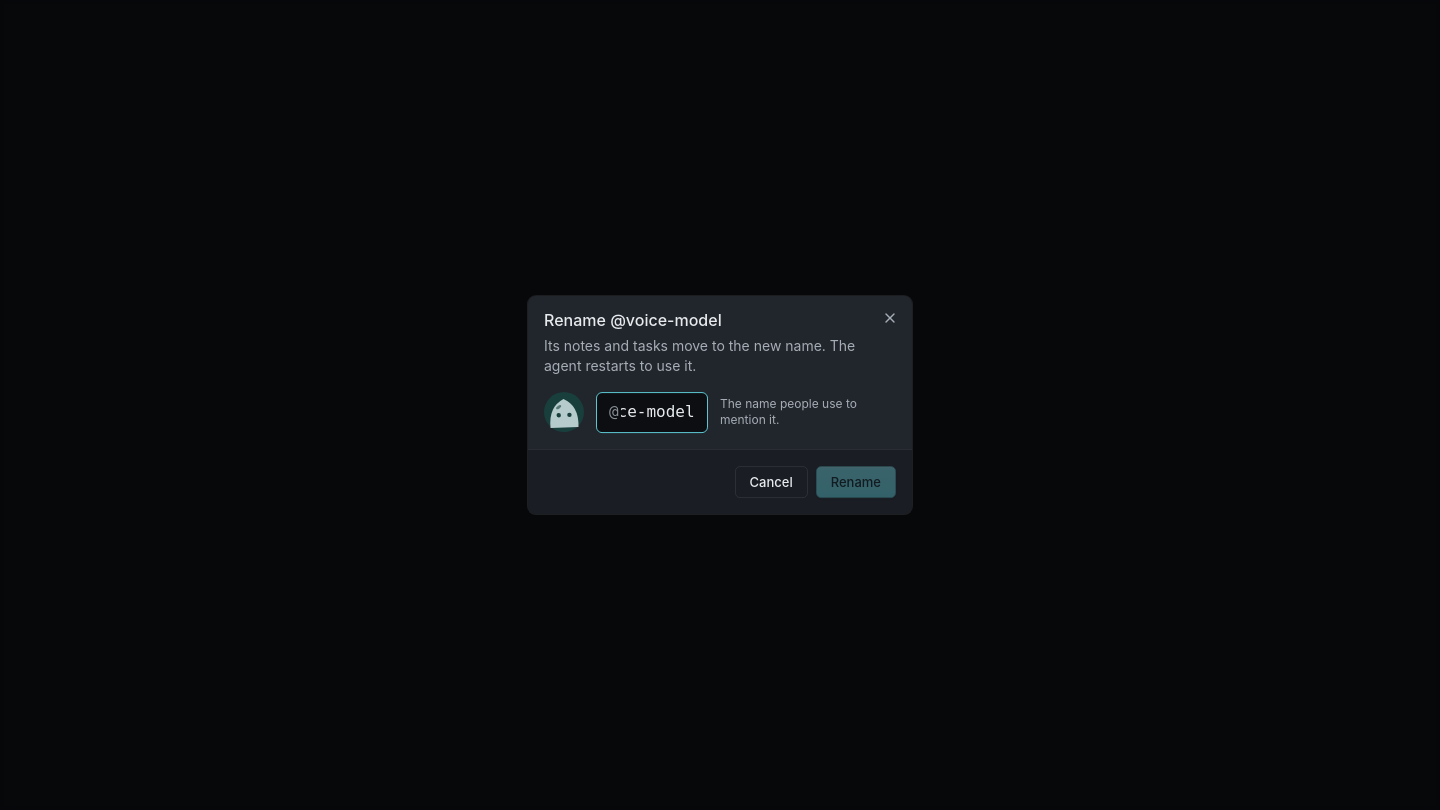
<RenameAgentDialog /> › says not renamed when the machine said no
The image size is (1440, 810).
Replace the text in the field named "handle" with "docs-writer" at (657, 412), box [619,393,695,432]
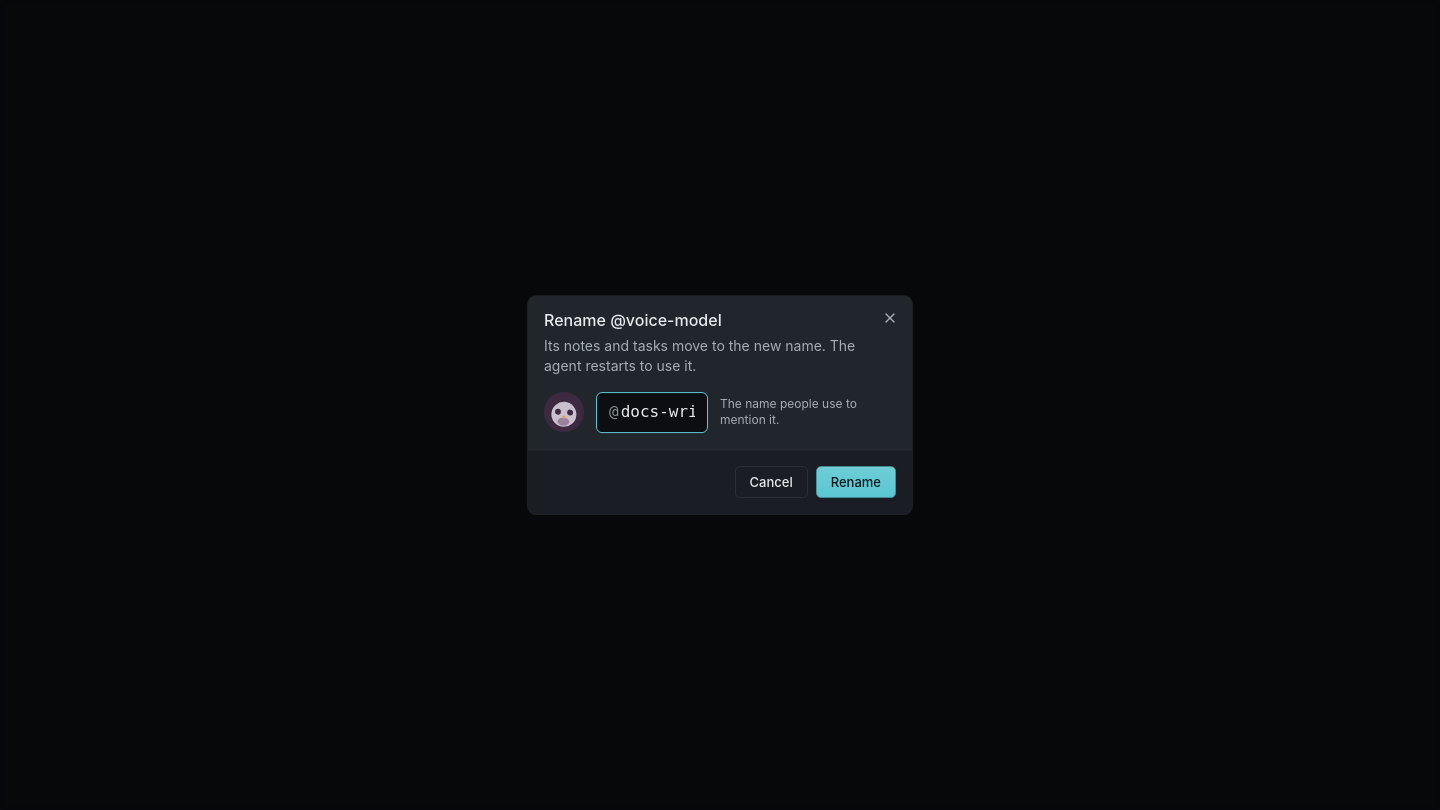
Click the button "Rename" at (856, 482), box [816,466,896,498]
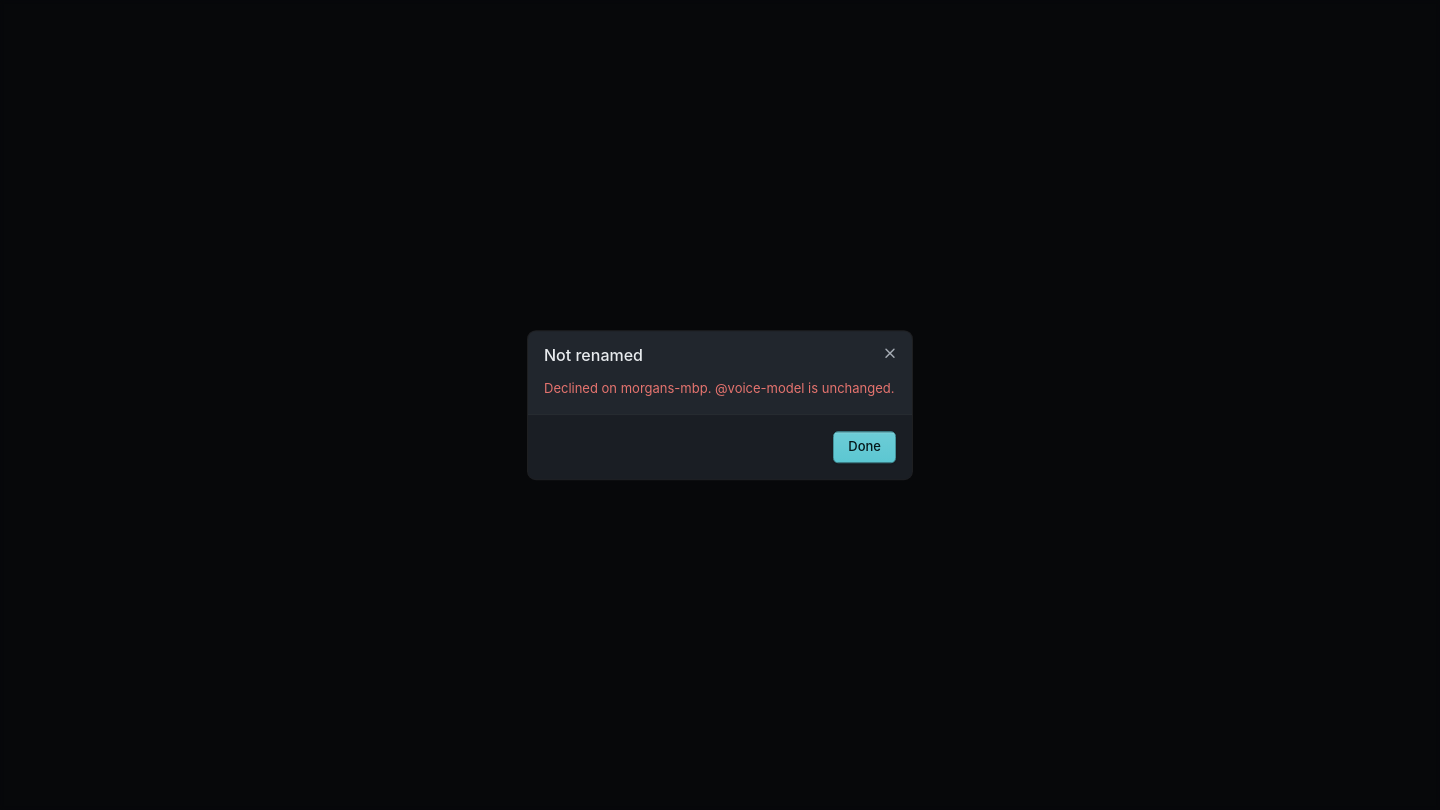
Check: the heading "Not renamed" is shown, box [544,345,643,365]
Check: the message reads "Declined on morgans-mbp. @voice-model is unchanged.", box [544,380,894,396]
